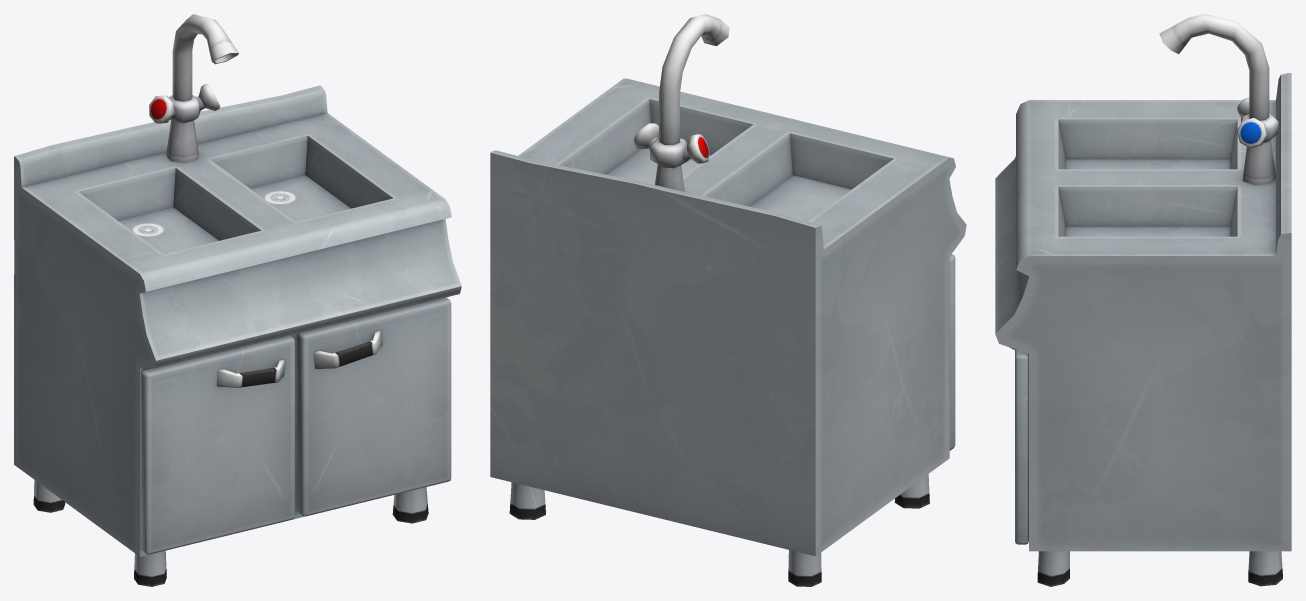
The model's file is CommKitchen01_3.FBX.
3 views of the same model, side by side, from view 1: azimuth 30°, elevation 25°; view 2: azimuth 150°, elevation 25°; view 3: azimuth 270°, elevation 25° (orthographic). The views are drawn at different scales.
Visible parts, largest first — view 1: CommKitchen01_3; view 2: CommKitchen01_3; view 3: CommKitchen01_3.
Boxes of the visible parts, bbox=[...] form: CommKitchen01_3: bbox=[14, 14, 461, 586]; CommKitchen01_3: bbox=[490, 14, 966, 586]; CommKitchen01_3: bbox=[995, 14, 1291, 586].
Size of what is drawn, in the model's own units: 1 by 1.49 by 0.8033.
